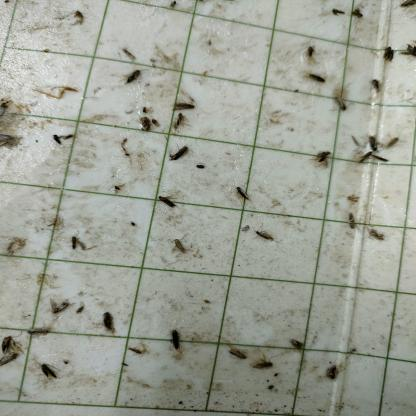prays_oleae: (34, 357, 62, 389), (255, 221, 279, 258), (310, 140, 332, 179), (49, 293, 76, 321), (99, 304, 120, 336), (155, 190, 178, 218), (321, 360, 345, 386), (170, 232, 190, 263), (332, 88, 350, 122), (23, 322, 53, 340), (226, 340, 246, 366), (288, 329, 302, 366), (252, 353, 274, 376), (167, 142, 189, 164), (120, 39, 138, 64), (346, 210, 362, 238), (169, 322, 180, 362), (0, 330, 20, 352), (172, 97, 199, 113), (172, 112, 188, 138), (366, 224, 386, 244), (401, 37, 416, 63), (232, 180, 248, 204), (123, 67, 141, 88), (68, 232, 86, 252), (0, 353, 18, 373), (50, 129, 63, 156), (382, 45, 396, 67), (305, 39, 317, 64), (384, 134, 398, 154), (359, 147, 373, 167), (368, 131, 380, 154), (350, 4, 362, 25), (308, 72, 329, 83), (329, 6, 344, 18), (397, 2, 416, 10), (372, 156, 390, 164)
